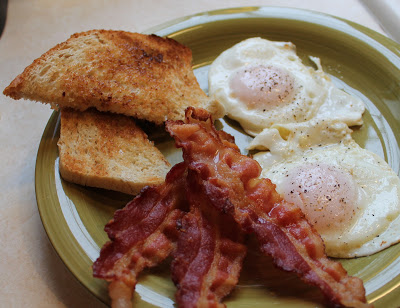fried egg: (269, 129, 394, 241), (220, 38, 333, 122)
slice of bread: (10, 29, 201, 103), (56, 111, 166, 191)
